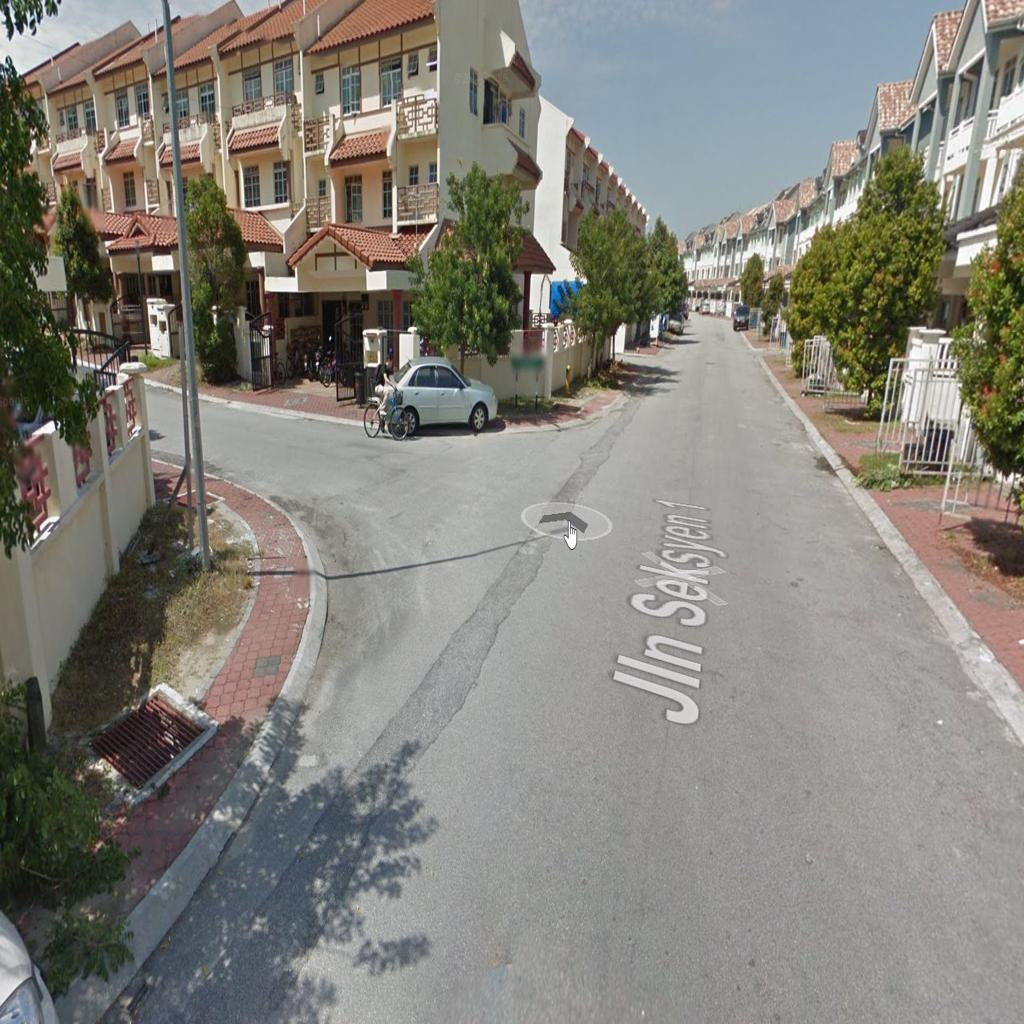Junction: (208, 394, 607, 710)
